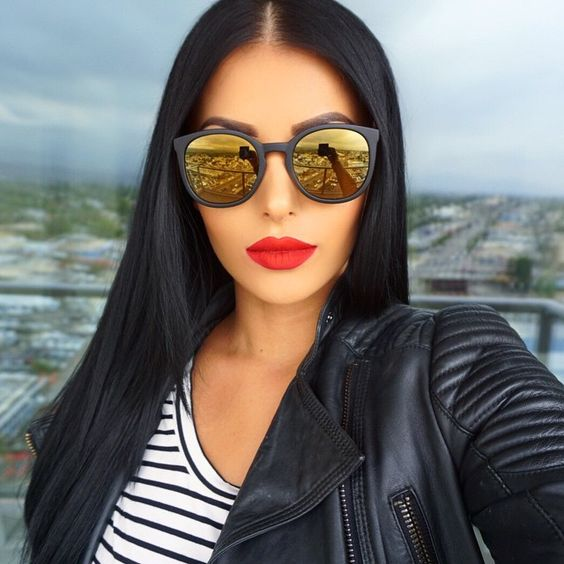sunglasses: (167, 126, 378, 197)
